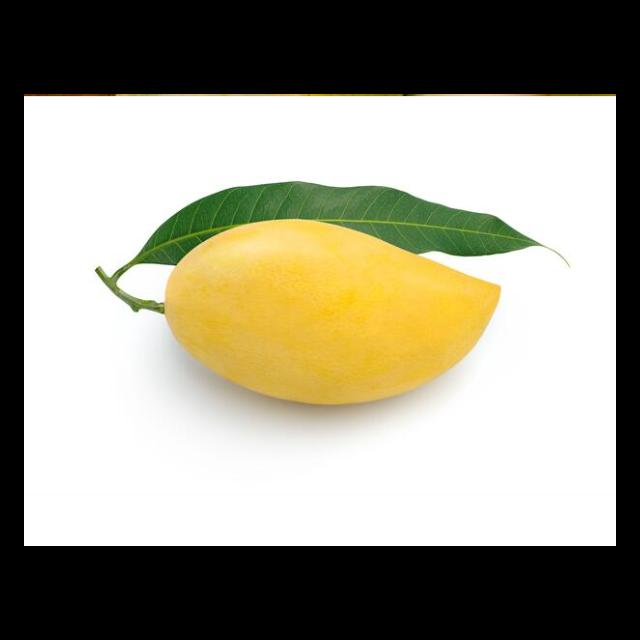mango: (164, 217, 504, 407)
